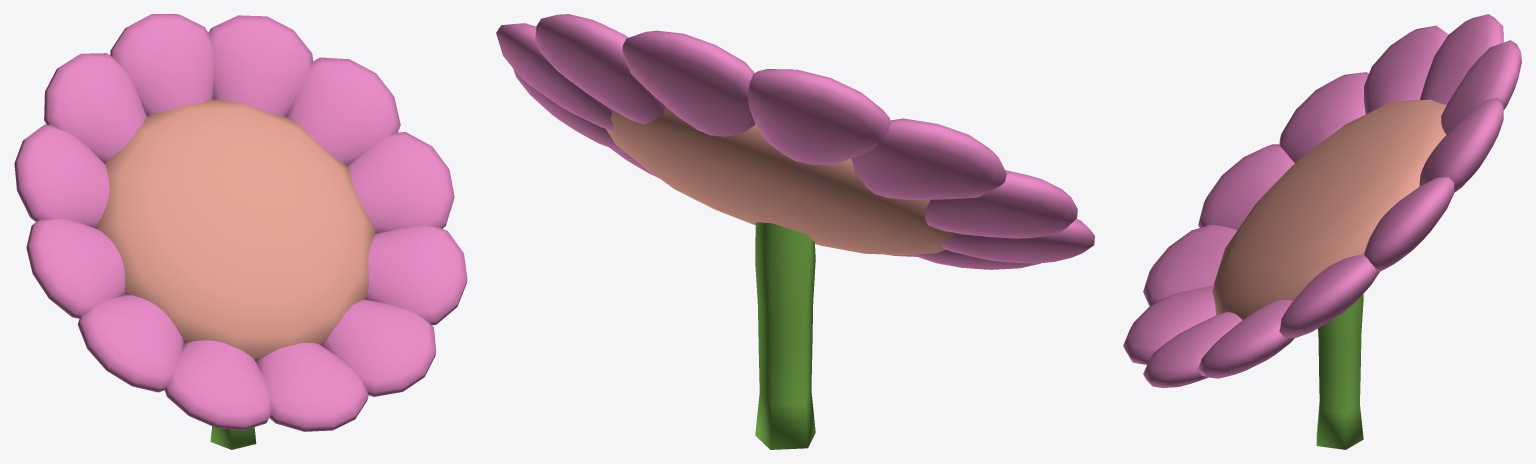
The model's file is flower.glb.
3 renders of one model, left to right at view 1: azimuth 30°, elevation 25°; view 2: azimuth 150°, elevation 25°; view 3: azimuth 270°, elevation 25°, orthographic. The views are drawn at different scales.
Visible parts, largest first — view 1: Face, Stalk; view 2: Face, Stalk; view 3: Face, Stalk.
Boxes of the visible parts, x1,y1,x2,y2 form: Face: (14,14,467,431); Stalk: (210,426,256,449); Face: (496,14,1094,269); Stalk: (755,222,815,449); Face: (1123,14,1521,388); Stalk: (1316,294,1363,449).
Bounding box in the file's own units: 3.18 × 2.66 × 2.46.
